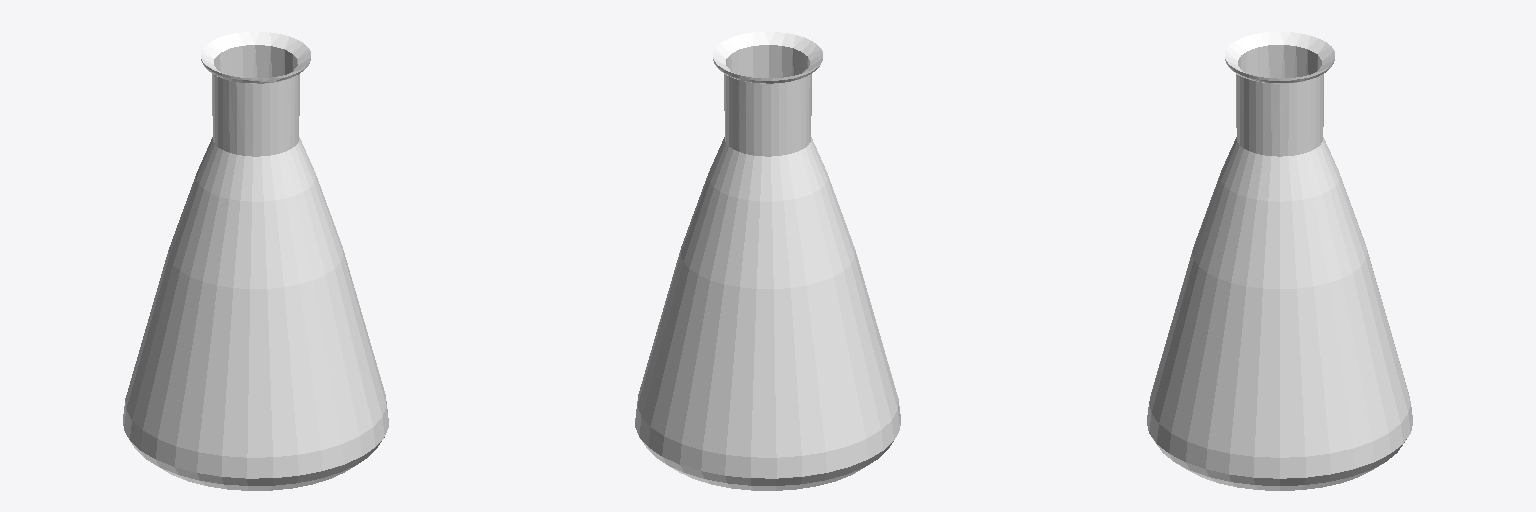
The model's file is Flask.obj.
The picture shows the model from 3 angles: view 1: azimuth 30°, elevation 25°; view 2: azimuth 150°, elevation 25°; view 3: azimuth 270°, elevation 25°; orthographic projection.
Visible parts, largest first — view 1: Sphere; view 2: Sphere; view 3: Sphere.
Boxes of the visible parts, <box> form: Sphere: <box>123,32,388,490</box>; Sphere: <box>635,32,900,490</box>; Sphere: <box>1147,32,1412,490</box>.
Size of the model in its own units: 2.57 by 4.28 by 2.57.